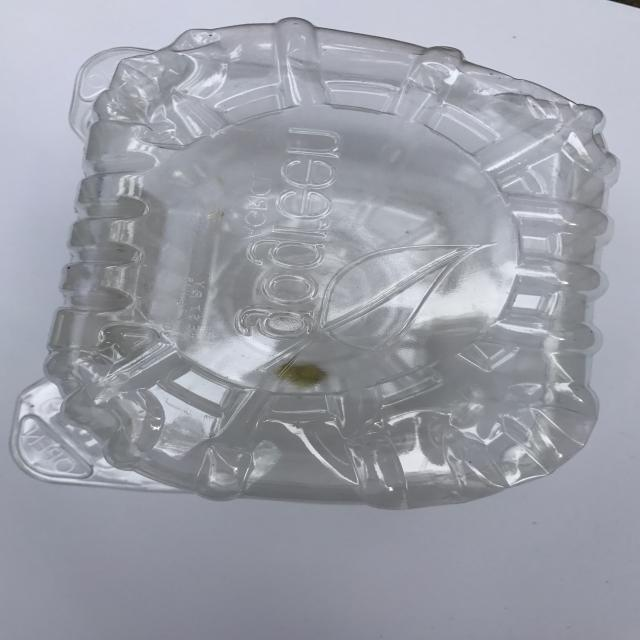plastic: (9, 17, 620, 510)
